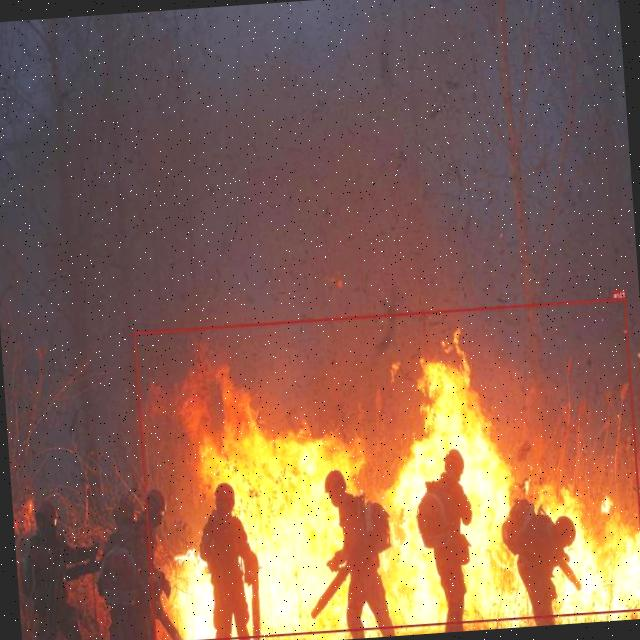fire: (133, 297, 640, 640)
